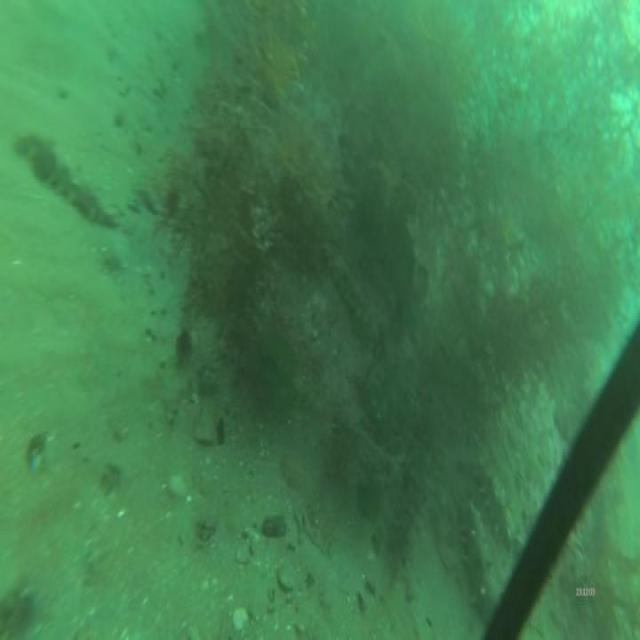holothurian: (329, 247, 387, 346), (460, 496, 505, 621)
waterweeds: (322, 0, 640, 362)
